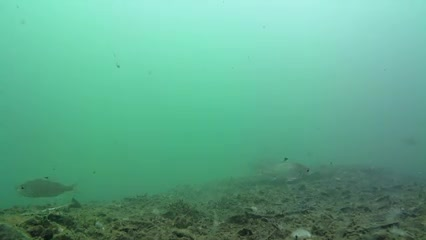smallfish: (257, 151, 315, 191), (16, 172, 85, 202)
